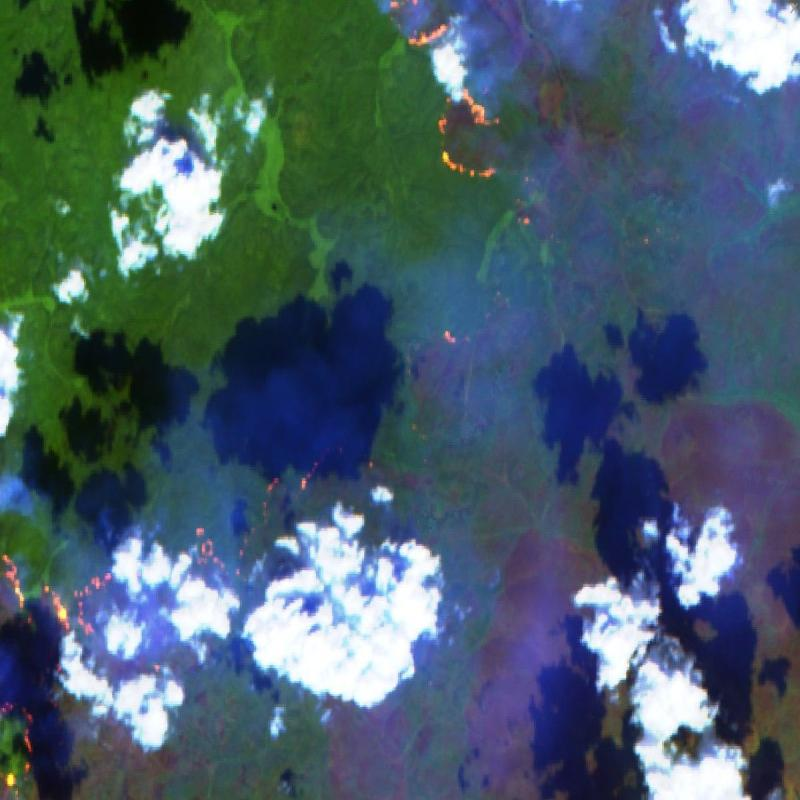fire: (0, 462, 328, 800), (376, 0, 504, 199)
